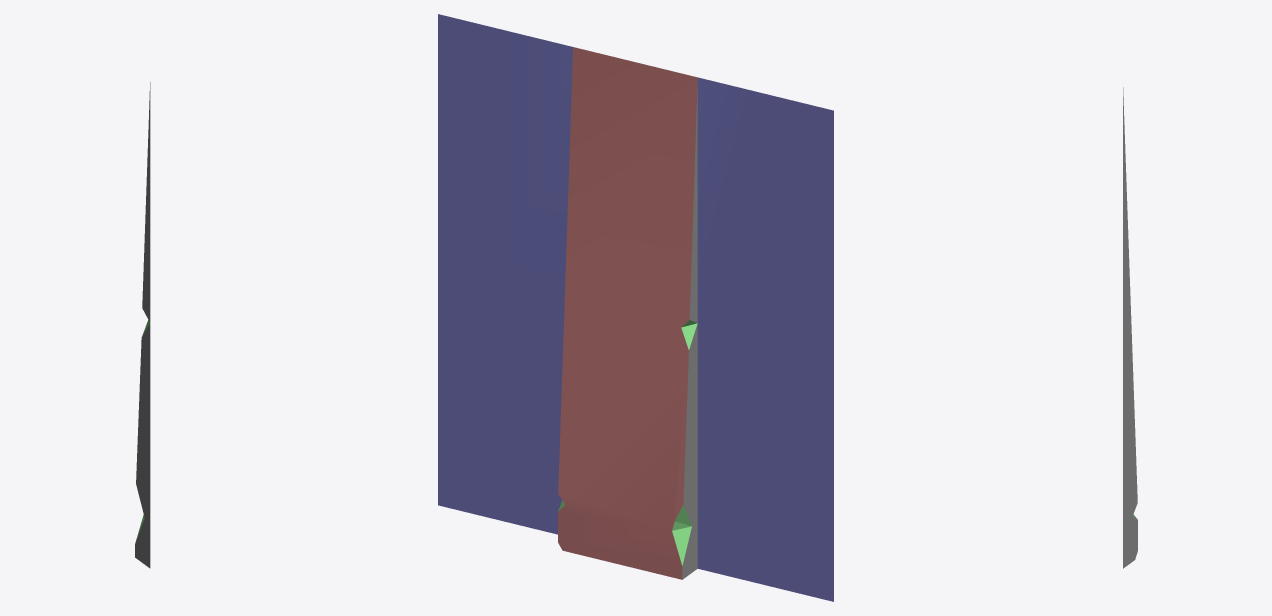
Rendered from SSQ_BRoom01_Gatedoor.gltf.
The picture shows the model from 3 angles, left to right: view 1: azimuth 30°, elevation 25°; view 2: azimuth 150°, elevation 25°; view 3: azimuth 330°, elevation 25°; orthographic projection.
Parts seen in each view (by area): view 1: SSQ_BRoom01_Gatedoor; view 2: SSQ_BRoom01_Gatedoor; view 3: SSQ_BRoom01_Gatedoor.
Boxes of the visible parts, x1,y1,x2,y2 form: SSQ_BRoom01_Gatedoor: [135, 82, 150, 568]; SSQ_BRoom01_Gatedoor: [438, 14, 833, 601]; SSQ_BRoom01_Gatedoor: [1123, 87, 1137, 568].
Size of the model in its own units: 2.75 by 3.26 by 0.1835.
